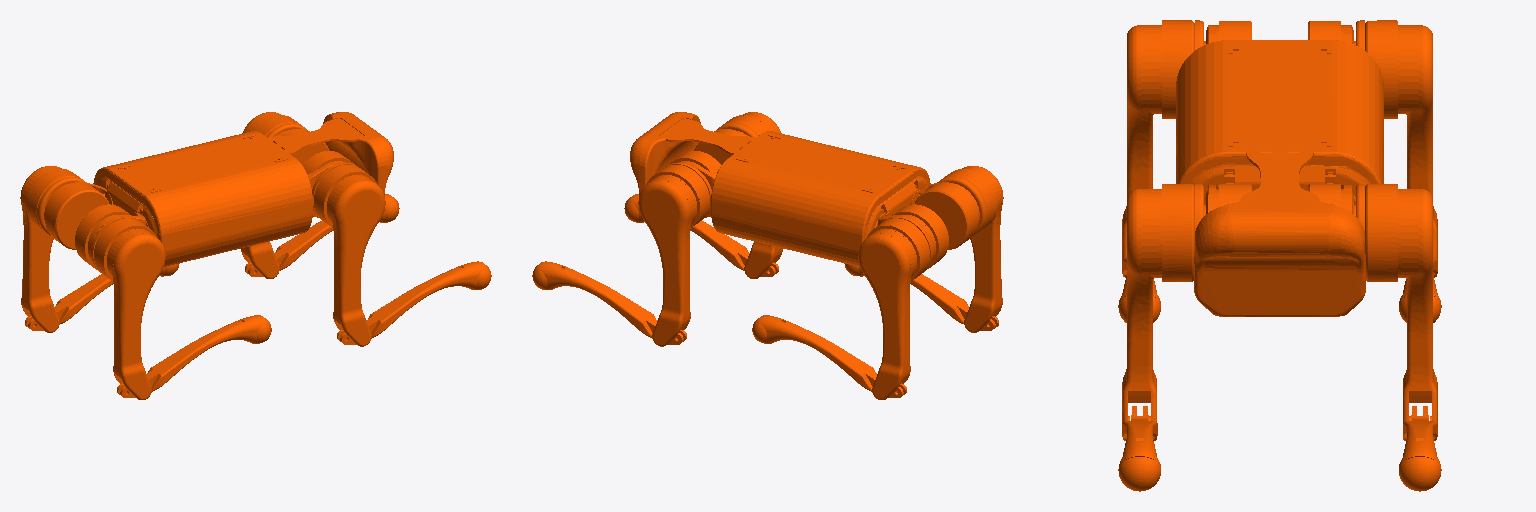
The robot description file, URDF, robot "a1_description":
<?xml version="1.0" encoding="utf-8"?>
<!-- =================================================================================== -->
<!-- |    This document was autogenerated by xacro from robot.xacro                    | -->
<!-- |    EDITING THIS FILE BY HAND IS NOT RECOMMENDED                                 | -->
<!-- =================================================================================== -->
<robot name="a1_description">
  <!-- dynamics inertial value -->
  <!-- trunk -->
  <!-- <xacro:property name="trunk_mass" value="5.660"/>
    <xacro:property name="trunk_com_x" value="0.012731"/>
    <xacro:property name="trunk_com_y" value="0.002186"/>
    <xacro:property name="trunk_com_z" value="0.000515"/>
    <xacro:property name="trunk_ixx" value="0.016839930"/>
    <xacro:property name="trunk_ixy" value="0.000083902"/>
    <xacro:property name="trunk_ixz" value="0.000597679"/>
    <xacro:property name="trunk_iyy" value="0.056579028"/>
    <xacro:property name="trunk_iyz" value="0.000025134"/>
    <xacro:property name="trunk_izz" value="0.064713601"/> -->
  <material name="black">
    <color rgba="0.0 0.0 0.0 1.0"/>
  </material>
  <material name="blue">
    <color rgba="0.0 0.0 0.8 1.0"/>
  </material>
  <material name="green">
    <color rgba="0.0 0.8 0.0 1.0"/>
  </material>
  <material name="grey">
    <color rgba="0.2 0.2 0.2 1.0"/>
  </material>
  <material name="silver">
    <color rgba="0.913725490196 0.913725490196 0.847058823529 1.0"/>
  </material>
  <material name="orange">
    <color rgba="1.0 0.423529411765 0.0392156862745 1.0"/>
  </material>
  <material name="brown">
    <color rgba="0.870588235294 0.811764705882 0.764705882353 1.0"/>
  </material>
  <material name="red">
    <color rgba="0.8 0.0 0.0 1.0"/>
  </material>
  <material name="white">
    <color rgba="1.0 1.0 1.0 1.0"/>
  </material>
  <link name="trunk">
    <visual>
      <origin rpy="0 0 0" xyz="0 0 0"/>
      <geometry>
        <mesh filename="package://a1_description/meshes/trunk.stl" scale="1 1 1"/>
      </geometry>
      <material name="orange"/>
    </visual>
    <collision>
      <origin rpy="0 0 0" xyz="0 0 0"/>
      <geometry>
        <box size="0.267 0.194 0.114"/>
      </geometry>
    </collision>
    <inertial>
      <origin rpy="0 0 0" xyz="0.0 0.0041 -0.0005"/>
      <mass value="6.0"/>
      <inertia ixx="0.0158533" ixy="-3.66e-05" ixz="-6.11e-05" iyy="0.0377999" iyz="-2.75e-05" izz="0.0456542"/>
    </inertial>
  </link>
  <joint name="imu_joint" type="fixed">
    <parent link="trunk"/>
    <child link="imu_link"/>
    <origin rpy="0 0 0" xyz="0 0 0"/>
  </joint>
  <link name="imu_link">
    <inertial>
      <mass value="0.001"/>
      <origin rpy="0 0 0" xyz="0 0 0"/>
      <inertia ixx="0.0001" ixy="0" ixz="0" iyy="0.0001" iyz="0" izz="0.0001"/>
    </inertial>
    <!-- <visual>
      <origin rpy="0 0 0" xyz="0 0 0"/>
      <geometry>
        <box size="0.001 0.001 0.001"/>
      </geometry>
      <material name="red"/>
    </visual>
    <collision>
      <origin rpy="0 0 0" xyz="0 0 0"/>
      <geometry>
        <box size=".001 .001 .001"/>
      </geometry>
    </collision> -->
  </link>
  <joint name="FR_hip_joint" type="revolute">
    <origin rpy="0 0 0" xyz="0.1805 -0.047 0"/>
    <parent link="trunk"/>
    <child link="FR_hip"/>
    <axis xyz="1 0 0"/>
    <dynamics damping="0.01" friction="0.2"/>
    <limit effort="33.5" lower="-0.802851455917" upper="0.802851455917" velocity="21"/>
  </joint>
  <link name="FR_hip">
    <visual>
      <origin rpy="3.14159265359 0 0" xyz="0 0 0"/>
      <geometry>
        <mesh filename="package://a1_description/meshes/hip.stl" scale="1 1 1"/>
      </geometry>
      <material name="orange"/>
    </visual>
    <collision>
      <origin rpy="1.57079632679 0 0" xyz="0 0 0"/>
      <geometry>
        <cylinder length="0.04" radius="0.046"/>
      </geometry>
    </collision>
    <inertial>
      <origin rpy="0 0 0" xyz="-0.003311 -0.000635 3.1e-05"/>
      <mass value="0.696"/>
      <inertia ixx="0.000469246" ixy="9.409e-06" ixz="-3.42e-07" iyy="0.00080749" iyz="4.66e-07" izz="0.000552929"/>
    </inertial>
  </link>
  <!-- <joint name="FR_hip_fixed" type="fixed">
    <origin rpy="0 0 0" xyz="0 -0.081 0"/>
    <parent link="FR_hip"/>
    <child link="FR_thigh_shoulder"/>
  </joint> -->
  <!-- this link is only for collision -->
  <!-- <link name="FR_thigh_shoulder">
    <inertial>
      <mass value="1e-8"/>
      <origin rpy="0 0 0" xyz="0 0 0"/>
      <inertia ixx="1e-12" ixy="0" ixz="0" iyy="1e-12" iyz="0" izz="1e-12"/>
    </inertial>
    <collision>
      <origin rpy="1.57079632679 0 0" xyz="0 0 0"/>
      <geometry>
        <cylinder length="0.032" radius="0.041"/>
      </geometry>
    </collision>
  </link> -->
  <joint name="FR_thigh_joint" type="revolute">
    <origin rpy="0 0 0" xyz="0 -0.0838 0"/>
    <parent link="FR_hip"/>
    <child link="FR_thigh"/>
    <axis xyz="0 1 0"/>
    <dynamics damping="0.01" friction="0.2"/>
    <limit effort="33.5" lower="-1.0471975512" upper="4.18879020479" velocity="21"/>
  </joint>
  <link name="FR_thigh">
    <visual>
      <origin rpy="0 0 0" xyz="0 0 0"/>
      <geometry>
        <mesh filename="package://a1_description/meshes/thigh_mirror.stl" scale="1 1 1"/>
      </geometry>
      <material name="orange"/>
    </visual>
    <collision>
      <origin rpy="0 1.57079632679 0" xyz="0 0 -0.1"/>
      <geometry>
        <box size="0.2 0.0245 0.034"/>
      </geometry>
    </collision>
    <inertial>
      <origin rpy="0 0 0" xyz="-0.003237 0.022327 -0.027326"/>
      <mass value="1.013"/>
      <inertia ixx="0.005529065" ixy="-4.825e-06" ixz="0.000343869" iyy="0.005139339" iyz="-2.2448e-05" izz="0.001367788"/>
    </inertial>
  </link>
  <joint name="FR_calf_joint" type="revolute">
    <origin rpy="0 0 0" xyz="0 0 -0.2"/>
    <parent link="FR_thigh"/>
    <child link="FR_calf"/>
    <axis xyz="0 1 0"/>
    <dynamics damping="0.01" friction="0.2"/>
    <limit effort="33.5" lower="-2.69653369433" upper="-0.916297857297" velocity="21"/>
  </joint>
  <link name="FR_calf">
    <visual>
      <origin rpy="0 0 0" xyz="0 0 0"/>
      <geometry>
        <mesh filename="package://a1_description/meshes/calf.stl" scale="1 1 1"/>
      </geometry>
      <material name="orange"/>
    </visual>
    <collision>
      <origin rpy="0 1.57079632679 0" xyz="0 0 -0.1"/>
      <geometry>
        <box size="0.2 0.016 0.016"/>
      </geometry>
    </collision>
    <inertial>
      <origin rpy="0 0 0" xyz="0.006435 0.0 -0.107388"/>
      <mass value="0.166"/>
      <inertia ixx="0.002997972" ixy="0.0" ixz="-0.000141163" iyy="0.003014022" iyz="0.0" izz="3.2426e-05"/>
    </inertial>
  </link>
  <joint name="FR_foot_fixed" type="fixed">
    <origin rpy="0 0 0" xyz="0 0 -0.2"/>
    <parent link="FR_calf"/>
    <child link="FR_foot"/>
  </joint>
  <link name="FR_foot">
    <visual>
      <origin rpy="0 0 0" xyz="0 0 0"/>
      <geometry>
        <sphere radius="0.01"/>
      </geometry>
      <material name="orange"/>
    </visual>
    <collision>
      <origin rpy="0 0 0" xyz="0 0 0"/>
      <geometry>
        <sphere radius="0.02"/>
      </geometry>
    </collision>
    <inertial>
      <mass value="0.06"/>
      <inertia ixx="9.6e-06" ixy="0.0" ixz="0.0" iyy="9.6e-06" iyz="0.0" izz="9.6e-06"/>
    </inertial>
  </link>

  <joint name="FL_hip_joint" type="revolute">
    <origin rpy="0 0 0" xyz="0.1805 0.047 0"/>
    <parent link="trunk"/>
    <child link="FL_hip"/>
    <axis xyz="1 0 0"/>
    <dynamics damping="0.01" friction="0.2"/>
    <limit effort="33.5" lower="-0.802851455917" upper="0.802851455917" velocity="21"/>
  </joint>
  <link name="FL_hip">
    <visual>
      <origin rpy="0 0 0" xyz="0 0 0"/>
      <geometry>
        <mesh filename="package://a1_description/meshes/hip.stl" scale="1 1 1"/>
      </geometry>
      <material name="orange"/>
    </visual>
    <collision>
      <origin rpy="1.57079632679 0 0" xyz="0 0 0"/>
      <geometry>
        <cylinder length="0.04" radius="0.046"/>
      </geometry>
    </collision>
    <inertial>
      <origin rpy="0 0 0" xyz="-0.003311 0.000635 3.1e-05"/>
      <mass value="0.696"/>
      <inertia ixx="0.000469246" ixy="-9.409e-06" ixz="-3.42e-07" iyy="0.00080749" iyz="-4.66e-07" izz="0.000552929"/>
    </inertial>
  </link>
  <!-- <joint name="FL_hip_fixed" type="fixed">
    <origin rpy="0 0 0" xyz="0 0.081 0"/>
    <parent link="FL_hip"/>
    <child link="FL_thigh_shoulder"/>
  </joint> -->
  <!-- this link is only for collision -->
  <!-- <link name="FL_thigh_shoulder">
    <inertial>
      <mass value="1e-8"/>
      <origin rpy="0 0 0" xyz="0 0 0"/>
      <inertia ixx="1e-12" ixy="0" ixz="0" iyy="1e-12" iyz="0" izz="1e-12"/>
    </inertial>
    <collision>
      <origin rpy="1.57079632679 0 0" xyz="0 0 0"/>
      <geometry>
        <cylinder length="0.032" radius="0.041"/>
      </geometry>
    </collision>
  </link> -->
  <joint name="FL_thigh_joint" type="revolute">
    <origin rpy="0 0 0" xyz="0 0.0838 0"/>
    <parent link="FL_hip"/>
    <child link="FL_thigh"/>
    <axis xyz="0 1 0"/>
    <dynamics damping="0.01" friction="0.2"/>
    <limit effort="33.5" lower="-1.0471975512" upper="4.18879020479" velocity="21"/>
  </joint>
  <link name="FL_thigh">
    <visual>
      <origin rpy="0 0 0" xyz="0 0 0"/>
      <geometry>
        <mesh filename="package://a1_description/meshes/thigh.stl" scale="1 1 1"/>
      </geometry>
      <material name="orange"/>
    </visual>
    <collision>
      <origin rpy="0 1.57079632679 0" xyz="0 0 -0.1"/>
      <geometry>
        <box size="0.2 0.0245 0.034"/>
      </geometry>
    </collision>
    <inertial>
      <origin rpy="0 0 0" xyz="-0.003237 -0.022327 -0.027326"/>
      <mass value="1.013"/>
      <inertia ixx="0.005529065" ixy="4.825e-06" ixz="0.000343869" iyy="0.005139339" iyz="2.2448e-05" izz="0.001367788"/>
    </inertial>
  </link>
  <joint name="FL_calf_joint" type="revolute">
    <origin rpy="0 0 0" xyz="0 0 -0.2"/>
    <parent link="FL_thigh"/>
    <child link="FL_calf"/>
    <axis xyz="0 1 0"/>
    <dynamics damping="0.01" friction="0.2"/>
    <limit effort="33.5" lower="-2.69653369433" upper="-0.916297857297" velocity="21"/>
  </joint>
  <link name="FL_calf">
    <visual>
      <origin rpy="0 0 0" xyz="0 0 0"/>
      <geometry>
        <mesh filename="package://a1_description/meshes/calf.stl" scale="1 1 1"/>
      </geometry>
      <material name="orange"/>
    </visual>
    <collision>
      <origin rpy="0 1.57079632679 0" xyz="0 0 -0.1"/>
      <geometry>
        <box size="0.2 0.016 0.016"/>
      </geometry>
    </collision>
    <inertial>
      <origin rpy="0 0 0" xyz="0.006435 0.0 -0.107388"/>
      <mass value="0.166"/>
      <inertia ixx="0.002997972" ixy="0.0" ixz="-0.000141163" iyy="0.003014022" iyz="0.0" izz="3.2426e-05"/>
    </inertial>
  </link>
  <joint name="FL_foot_fixed" type="fixed">
    <origin rpy="0 0 0" xyz="0 0 -0.2"/>
    <parent link="FL_calf"/>
    <child link="FL_foot"/>
  </joint>
  <link name="FL_foot">
    <visual>
      <origin rpy="0 0 0" xyz="0 0 0"/>
      <geometry>
        <sphere radius="0.01"/>
      </geometry>
      <material name="orange"/>
    </visual>
    <collision>
      <origin rpy="0 0 0" xyz="0 0 0"/>
      <geometry>
        <sphere radius="0.02"/>
      </geometry>
    </collision>
    <inertial>
      <mass value="0.06"/>
      <inertia ixx="9.6e-06" ixy="0.0" ixz="0.0" iyy="9.6e-06" iyz="0.0" izz="9.6e-06"/>
    </inertial>
  </link>

  <joint name="RR_hip_joint" type="revolute">
    <origin rpy="0 0 0" xyz="-0.1805 -0.047 0"/>
    <parent link="trunk"/>
    <child link="RR_hip"/>
    <axis xyz="1 0 0"/>
    <dynamics damping="0.01" friction="0.2"/>
    <limit effort="33.5" lower="-0.802851455917" upper="0.802851455917" velocity="21"/>
  </joint>
  <link name="RR_hip">
    <visual>
      <origin rpy="3.14159265359 3.14159265359 0" xyz="0 0 0"/>
      <geometry>
        <mesh filename="package://a1_description/meshes/hip.stl" scale="1 1 1"/>
      </geometry>
      <material name="orange"/>
    </visual>
    <collision>
      <origin rpy="1.57079632679 0 0" xyz="0 0 0"/>
      <geometry>
        <cylinder length="0.04" radius="0.046"/>
      </geometry>
    </collision>
    <inertial>
      <origin rpy="0 0 0" xyz="0.003311 -0.000635 3.1e-05"/>
      <mass value="0.696"/>
      <inertia ixx="0.000469246" ixy="-9.409e-06" ixz="3.42e-07" iyy="0.00080749" iyz="4.66e-07" izz="0.000552929"/>
    </inertial>
  </link>
  <!-- <joint name="RR_hip_fixed" type="fixed">
    <origin rpy="0 0 0" xyz="0 -0.081 0"/>
    <parent link="RR_hip"/>
    <child link="RR_thigh_shoulder"/>
  </joint> -->
  <!-- this link is only for collision -->
  <!-- <link name="RR_thigh_shoulder">
    <inertial>
      <mass value="1e-8"/>
      <origin rpy="0 0 0" xyz="0 0 0"/>
      <inertia ixx="1e-12" ixy="0" ixz="0" iyy="1e-12" iyz="0" izz="1e-12"/>
    </inertial>
    <collision>
      <origin rpy="1.57079632679 0 0" xyz="0 0 0"/>
      <geometry>
        <cylinder length="0.032" radius="0.041"/>
      </geometry>
    </collision>
  </link> -->
  <joint name="RR_thigh_joint" type="revolute">
    <origin rpy="0 0 0" xyz="0 -0.0838 0"/>
    <parent link="RR_hip"/>
    <child link="RR_thigh"/>
    <axis xyz="0 1 0"/>
    <dynamics damping="0.01" friction="0.2"/>
    <limit effort="33.5" lower="-1.0471975512" upper="4.18879020479" velocity="21"/>
  </joint>
  <link name="RR_thigh">
    <visual>
      <origin rpy="0 0 0" xyz="0 0 0"/>
      <geometry>
        <mesh filename="package://a1_description/meshes/thigh_mirror.stl" scale="1 1 1"/>
      </geometry>
      <material name="orange"/>
    </visual>
    <collision>
      <origin rpy="0 1.57079632679 0" xyz="0 0 -0.1"/>
      <geometry>
        <box size="0.2 0.0245 0.034"/>
      </geometry>
    </collision>
    <inertial>
      <origin rpy="0 0 0" xyz="-0.003237 0.022327 -0.027326"/>
      <mass value="1.013"/>
      <inertia ixx="0.005529065" ixy="-4.825e-06" ixz="0.000343869" iyy="0.005139339" iyz="-2.2448e-05" izz="0.001367788"/>
    </inertial>
  </link>
  <joint name="RR_calf_joint" type="revolute">
    <origin rpy="0 0 0" xyz="0 0 -0.2"/>
    <parent link="RR_thigh"/>
    <child link="RR_calf"/>
    <axis xyz="0 1 0"/>
    <dynamics damping="0.01" friction="0.2"/>
    <limit effort="33.5" lower="-2.69653369433" upper="-0.916297857297" velocity="21"/>
  </joint>
  <link name="RR_calf">
    <visual>
      <origin rpy="0 0 0" xyz="0 0 0"/>
      <geometry>
        <mesh filename="package://a1_description/meshes/calf.stl" scale="1 1 1"/>
      </geometry>
      <material name="orange"/>
    </visual>
    <collision>
      <origin rpy="0 1.57079632679 0" xyz="0 0 -0.1"/>
      <geometry>
        <box size="0.2 0.016 0.016"/>
      </geometry>
    </collision>
    <inertial>
      <origin rpy="0 0 0" xyz="0.006435 0.0 -0.107388"/>
      <mass value="0.166"/>
      <inertia ixx="0.002997972" ixy="0.0" ixz="-0.000141163" iyy="0.003014022" iyz="0.0" izz="3.2426e-05"/>
    </inertial>
  </link>
  <joint name="RR_foot_fixed" type="fixed">
    <origin rpy="0 0 0" xyz="0 0 -0.2"/>
    <parent link="RR_calf"/>
    <child link="RR_foot"/>
  </joint>
  <link name="RR_foot">
    <visual>
      <origin rpy="0 0 0" xyz="0 0 0"/>
      <geometry>
        <sphere radius="0.01"/>
      </geometry>
      <material name="orange"/>
    </visual>
    <collision>
      <origin rpy="0 0 0" xyz="0 0 0"/>
      <geometry>
        <sphere radius="0.02"/>
      </geometry>
    </collision>
    <inertial>
      <mass value="0.06"/>
      <inertia ixx="9.6e-06" ixy="0.0" ixz="0.0" iyy="9.6e-06" iyz="0.0" izz="9.6e-06"/>
    </inertial>
  </link>

  <joint name="RL_hip_joint" type="revolute">
    <origin rpy="0 0 0" xyz="-0.1805 0.047 0"/>
    <parent link="trunk"/>
    <child link="RL_hip"/>
    <axis xyz="1 0 0"/>
    <dynamics damping="0.01" friction="0.2"/>
    <limit effort="33.5" lower="-0.802851455917" upper="0.802851455917" velocity="21"/>
  </joint>
  <link name="RL_hip">
    <visual>
      <origin rpy="0 3.14159265359 0" xyz="0 0 0"/>
      <geometry>
        <mesh filename="package://a1_description/meshes/hip.stl" scale="1 1 1"/>
      </geometry>
      <material name="orange"/>
    </visual>
    <collision>
      <origin rpy="1.57079632679 0 0" xyz="0 0 0"/>
      <geometry>
        <cylinder length="0.04" radius="0.046"/>
      </geometry>
    </collision>
    <inertial>
      <origin rpy="0 0 0" xyz="0.003311 0.000635 3.1e-05"/>
      <mass value="0.696"/>
      <inertia ixx="0.000469246" ixy="9.409e-06" ixz="3.42e-07" iyy="0.00080749" iyz="-4.66e-07" izz="0.000552929"/>
    </inertial>
  </link>
  <!-- <joint name="RL_hip_fixed" type="fixed">
    <origin rpy="0 0 0" xyz="0 0.081 0"/>
    <parent link="RL_hip"/>
    <child link="RL_thigh_shoulder"/>
  </joint> -->
  <!-- this link is only for collision -->
  <!-- <link name="RL_thigh_shoulder">
    <inertial>
      <mass value="1e-8"/>
      <origin rpy="0 0 0" xyz="0 0 0"/>
      <inertia ixx="1e-12" ixy="0" ixz="0" iyy="1e-12" iyz="0" izz="1e-12"/>
    </inertial>
    <collision>
      <origin rpy="1.57079632679 0 0" xyz="0 0 0"/>
      <geometry>
        <cylinder length="0.032" radius="0.041"/>
      </geometry>
    </collision>
  </link> -->
  <joint name="RL_thigh_joint" type="revolute">
    <origin rpy="0 0 0" xyz="0 0.0838 0"/>
    <parent link="RL_hip"/>
    <child link="RL_thigh"/>
    <axis xyz="0 1 0"/>
    <dynamics damping="0.01" friction="0.2"/>
    <limit effort="33.5" lower="-1.0471975512" upper="4.18879020479" velocity="21"/>
  </joint>
  <link name="RL_thigh">
    <visual>
      <origin rpy="0 0 0" xyz="0 0 0"/>
      <geometry>
        <mesh filename="package://a1_description/meshes/thigh.stl" scale="1 1 1"/>
      </geometry>
      <material name="orange"/>
    </visual>
    <collision>
      <origin rpy="0 1.57079632679 0" xyz="0 0 -0.1"/>
      <geometry>
        <box size="0.2 0.0245 0.034"/>
      </geometry>
    </collision>
    <inertial>
      <origin rpy="0 0 0" xyz="-0.003237 -0.022327 -0.027326"/>
      <mass value="1.013"/>
      <inertia ixx="0.005529065" ixy="4.825e-06" ixz="0.000343869" iyy="0.005139339" iyz="2.2448e-05" izz="0.001367788"/>
    </inertial>
  </link>
  <joint name="RL_calf_joint" type="revolute">
    <origin rpy="0 0 0" xyz="0 0 -0.2"/>
    <parent link="RL_thigh"/>
    <child link="RL_calf"/>
    <axis xyz="0 1 0"/>
    <dynamics damping="0.01" friction="0.2"/>
    <limit effort="33.5" lower="-2.69653369433" upper="-0.916297857297" velocity="21"/>
  </joint>
  <link name="RL_calf">
    <visual>
      <origin rpy="0 0 0" xyz="0 0 0"/>
      <geometry>
        <mesh filename="package://a1_description/meshes/calf.stl" scale="1 1 1"/>
      </geometry>
      <material name="orange"/>
    </visual>
    <collision>
      <origin rpy="0 1.57079632679 0" xyz="0 0 -0.1"/>
      <geometry>
        <box size="0.2 0.016 0.016"/>
      </geometry>
    </collision>
    <inertial>
      <origin rpy="0 0 0" xyz="0.006435 0.0 -0.107388"/>
      <mass value="0.166"/>
      <inertia ixx="0.002997972" ixy="0.0" ixz="-0.000141163" iyy="0.003014022" iyz="0.0" izz="3.2426e-05"/>
    </inertial>
  </link>
  <joint name="RL_foot_fixed" type="fixed">
    <origin rpy="0 0 0" xyz="0 0 -0.2"/>
    <parent link="RL_calf"/>
    <child link="RL_foot"/>
  </joint>
  <link name="RL_foot">
    <visual>
      <origin rpy="0 0 0" xyz="0 0 0"/>
      <geometry>
        <sphere radius="0.01"/>
      </geometry>
      <material name="orange"/>
    </visual>
    <collision>
      <origin rpy="0 0 0" xyz="0 0 0"/>
      <geometry>
        <sphere radius="0.02"/>
      </geometry>
    </collision>
    <inertial>
      <mass value="0.06"/>
      <inertia ixx="9.6e-06" ixy="0.0" ixz="0.0" iyy="9.6e-06" iyz="0.0" izz="9.6e-06"/>
    </inertial>
  </link>
</robot>

--- Facts derived from the render (not from the file) ---
3 views of the same robot in one strip: view 1: azimuth 30°, elevation 25°; view 2: azimuth 150°, elevation 25°; view 3: azimuth 270°, elevation 25° (orthographic).
Model a1_description with 18 links and 17 joints (12 revolute, 5 fixed), rooted at trunk, posed joints at zero except 4 at the middle of their limits (FR_calf_joint = -1.81, FL_calf_joint = -1.81, RR_calf_joint = -1.81, RL_calf_joint = -1.81).
Visible links, largest first — view 1: trunk, RR_thigh, FR_thigh, RL_thigh, RR_calf, FR_calf, RL_hip, FL_thigh, FL_calf, RL_calf, RR_hip, FR_hip; view 2: trunk, RL_thigh, FL_thigh, RR_thigh, RL_calf, FL_calf, RR_hip, FR_thigh, FR_calf, RR_calf, RL_hip, FL_hip; view 3: trunk, FL_thigh, FR_thigh, RR_thigh, RL_thigh, FR_calf, FL_calf, FR_hip, FL_hip, RR_hip, RL_hip, RR_calf (+1 smaller).
Link boxes in pixels (x1=…): trunk: x1=93, y1=112, x2=393, y2=266; RR_thigh: x1=91, y1=216, x2=165, y2=399; FR_thigh: x1=312, y1=163, x2=385, y2=346; RL_thigh: x1=20, y1=166, x2=86, y2=332; RR_calf: x1=117, y1=315, x2=271, y2=397; FR_calf: x1=337, y1=261, x2=491, y2=344; RL_hip: x1=44, y1=182, x2=113, y2=249; FL_thigh: x1=241, y1=112, x2=306, y2=278; FL_calf: x1=245, y1=194, x2=399, y2=276; RL_calf: x1=25, y1=263, x2=179, y2=330; RR_hip: x1=75, y1=204, x2=145, y2=269; FR_hip: x1=303, y1=151, x2=353, y2=217; trunk: x1=630, y1=112, x2=930, y2=266; RL_thigh: x1=858, y1=216, x2=932, y2=399; FL_thigh: x1=638, y1=163, x2=711, y2=346; RR_thigh: x1=937, y1=166, x2=1003, y2=332; RL_calf: x1=752, y1=315, x2=906, y2=397; FL_calf: x1=532, y1=261, x2=686, y2=344; RR_hip: x1=910, y1=182, x2=979, y2=249; FR_thigh: x1=717, y1=112, x2=782, y2=278; FR_calf: x1=624, y1=194, x2=778, y2=276; RR_calf: x1=844, y1=263, x2=998, y2=330; RL_hip: x1=878, y1=204, x2=948, y2=268; FL_hip: x1=670, y1=151, x2=720, y2=217; trunk: x1=1176, y1=40, x2=1383, y2=316; FL_thigh: x1=1354, y1=184, x2=1437, y2=440; FR_thigh: x1=1122, y1=184, x2=1205, y2=440; RR_thigh: x1=1122, y1=20, x2=1205, y2=277; RL_thigh: x1=1354, y1=20, x2=1437, y2=277; FR_calf: x1=1118, y1=406, x2=1160, y2=491; FL_calf: x1=1399, y1=406, x2=1441, y2=491; FR_hip: x1=1206, y1=184, x2=1251, y2=213; FL_hip: x1=1308, y1=184, x2=1353, y2=213; RR_hip: x1=1206, y1=21, x2=1251, y2=43; RL_hip: x1=1308, y1=21, x2=1353, y2=43; RR_calf: x1=1118, y1=257, x2=1160, y2=322.
Size in the robot's own frame: 0.6215 by 0.3016 by 0.272 metres.
Meshes: 5 distinct files referenced, 13 mesh visuals loaded (5 binary STL).